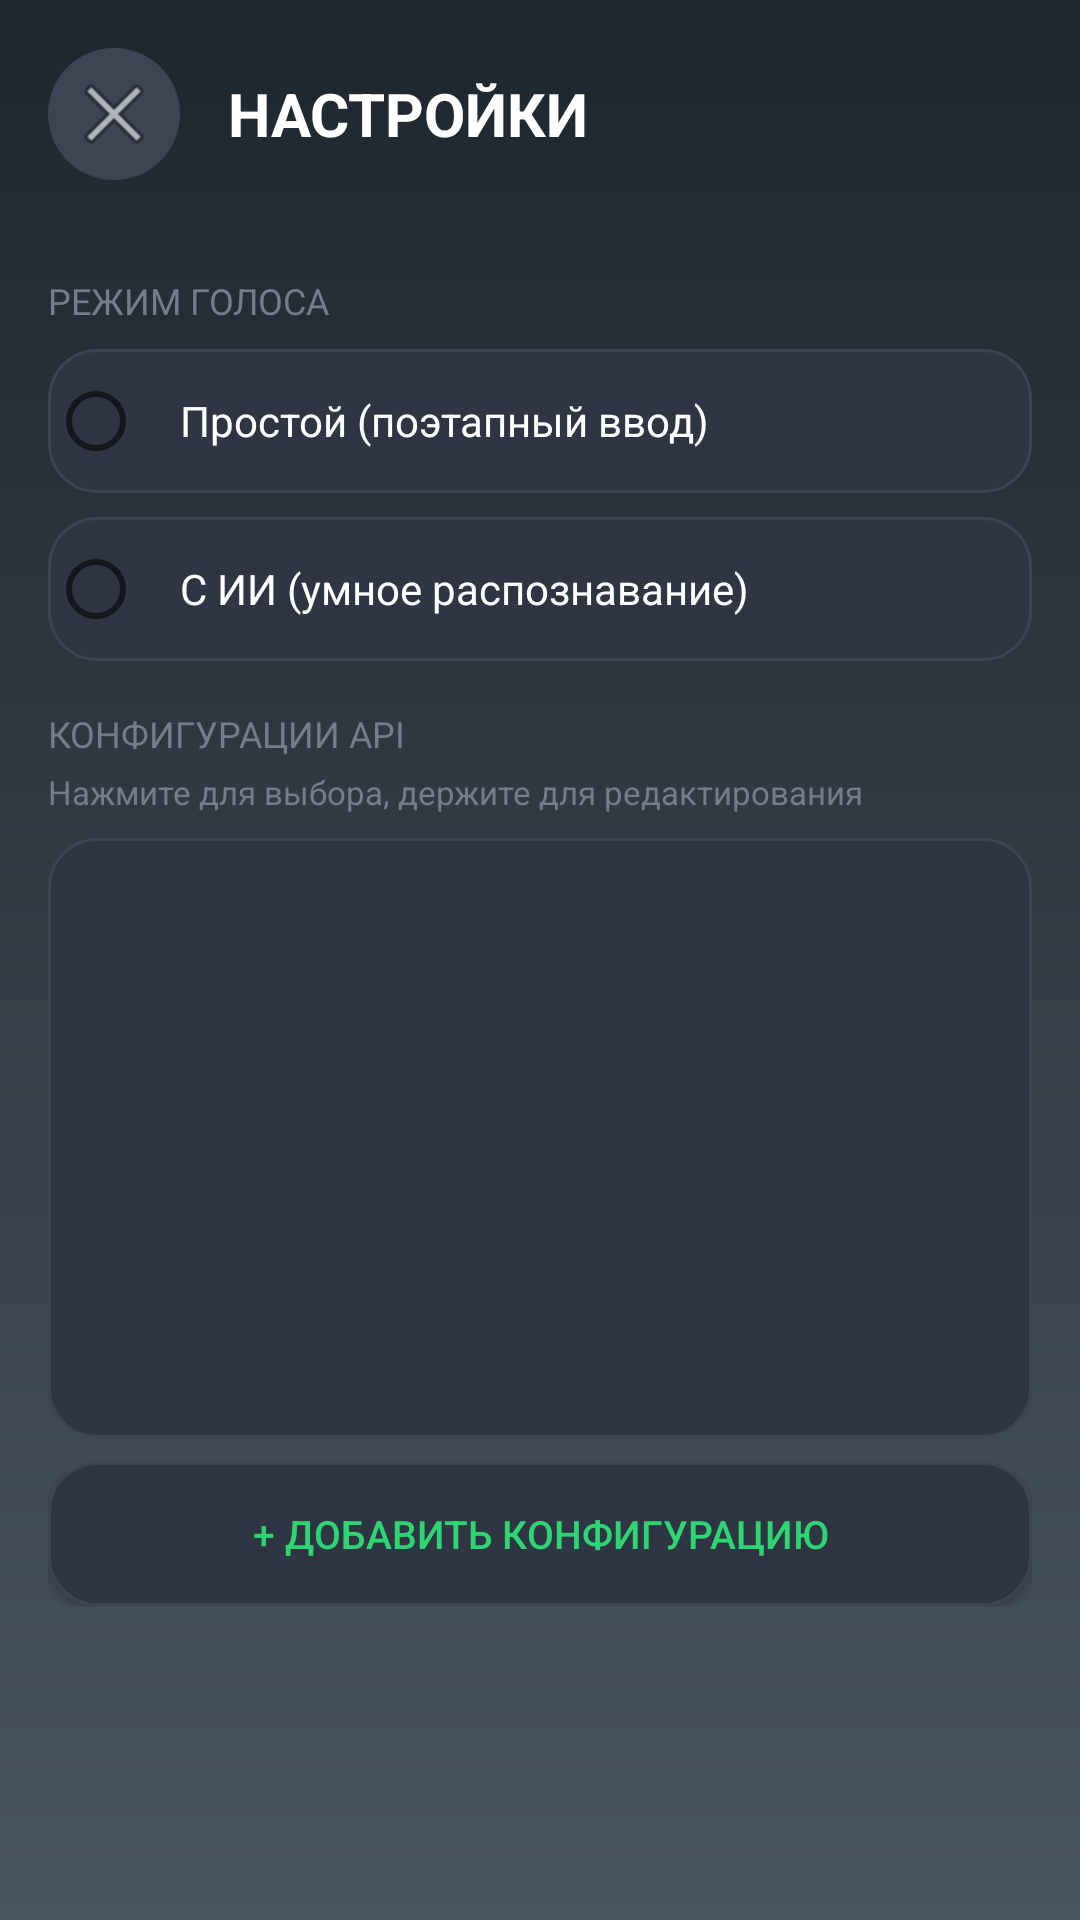

Icon bounding boxes for this 1080×1920 phone screenshot, format (x1, y1, x2, y2):
Назад: (48, 48, 180, 180)
